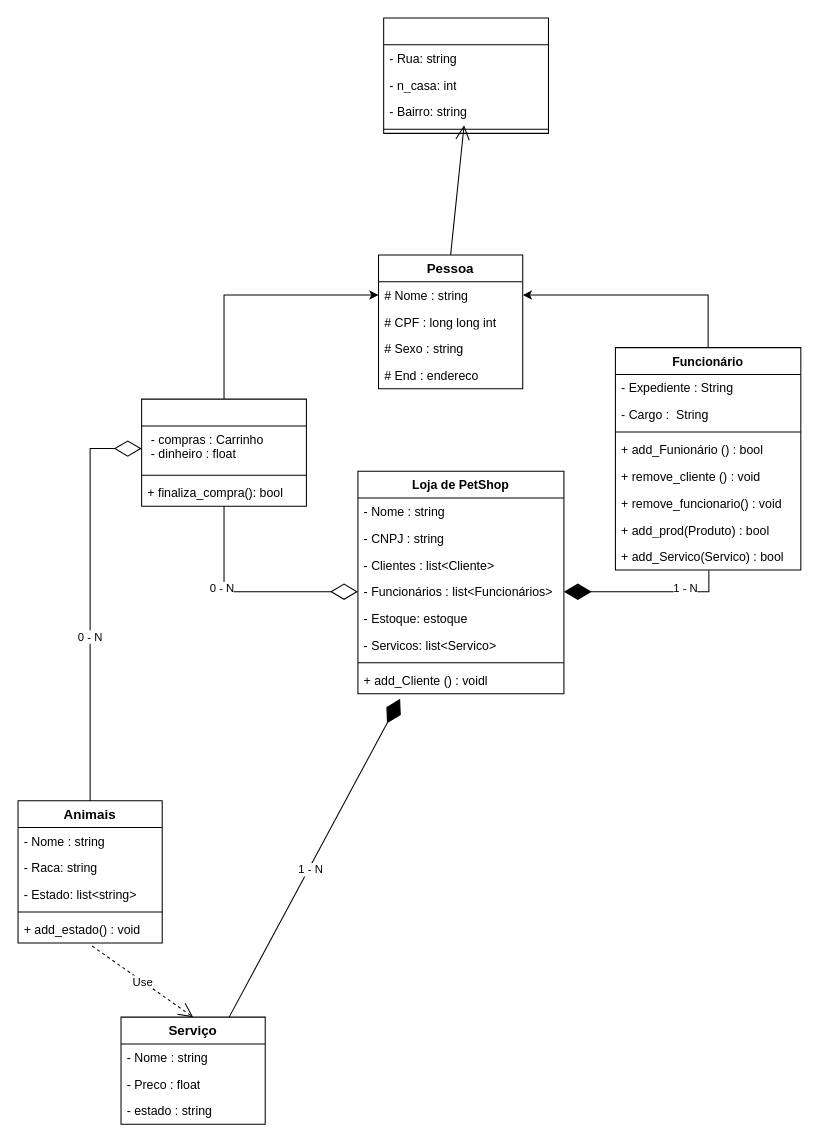
Some shapes in this 819 by 1145 pixel diagram are drawn without their labels. Each missing label, with the box of its shape:
Cliente: (141, 398, 306, 506)
Endereço: (383, 17, 548, 133)
